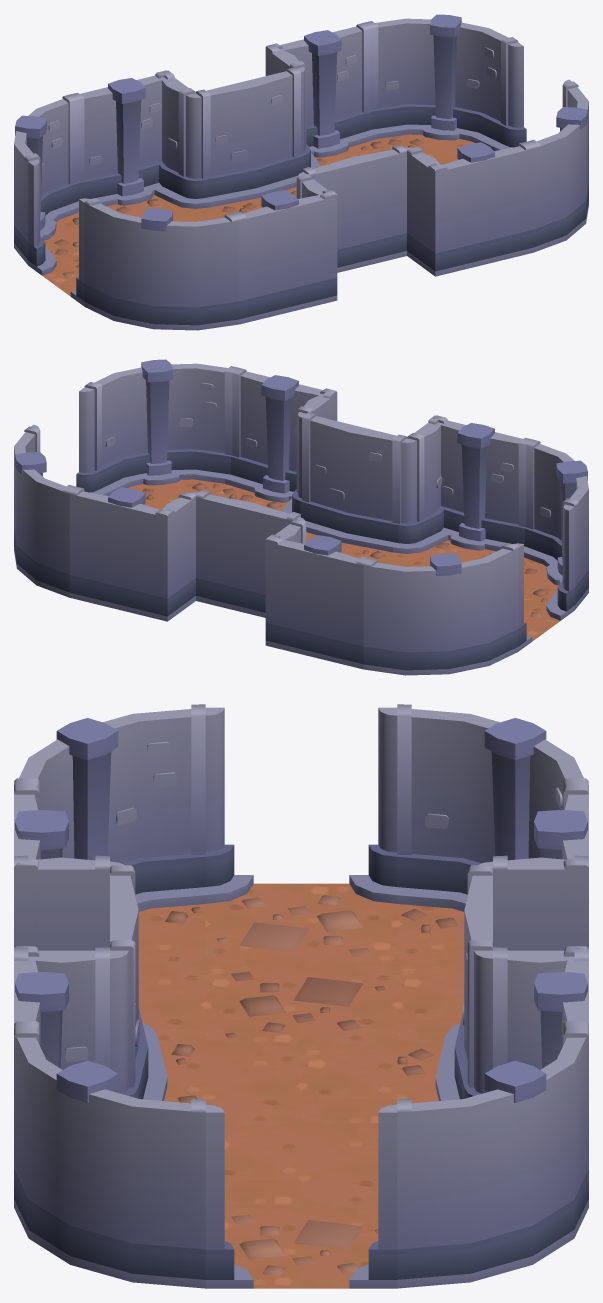
The model's file is kenney-modular-dungeon-room-wide-variation.glb.
The picture shows the model from 3 angles, top to bottom: view 1: azimuth 30°, elevation 25°; view 2: azimuth 150°, elevation 25°; view 3: azimuth 270°, elevation 25°; orthographic projection. The views are drawn at different scales.
Visible parts, largest first — view 1: room-wide-variation; view 2: room-wide-variation; view 3: room-wide-variation.
Boxes of the visible parts, x1,y1,x2,y2 form: room-wide-variation: (14,14,588,330); room-wide-variation: (14,359,588,675); room-wide-variation: (14,704,588,1288).
Size of the model in its own units: 20 by 4.23 by 12.
1 material, 1 textured.
